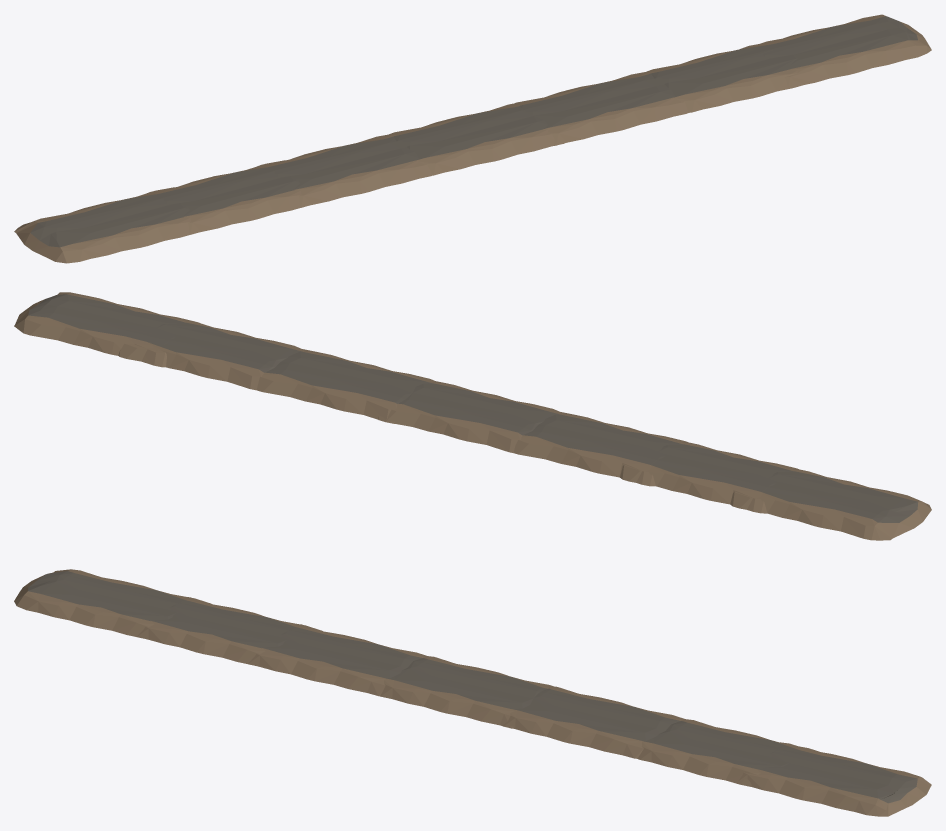
File: at_yolu.fbx
3 renders of one model, top to bottom at view 1: azimuth 30°, elevation 25°; view 2: azimuth 150°, elevation 25°; view 3: azimuth 330°, elevation 25°, orthographic.
Visible parts, largest first — view 1: at_yolu; view 2: at_yolu; view 3: at_yolu.
Boxes of the visible parts, left/top/right/bottom form: at_yolu: left=14, top=14, right=931, bottom=263; at_yolu: left=14, top=292, right=931, bottom=540; at_yolu: left=14, top=569, right=931, bottom=816.
Size of the model in its own units: 9524 by 105 by 994.
1 material, 1 textured.
